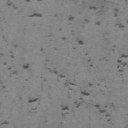oxide scale of temperature system: (52, 5, 125, 122), (0, 48, 44, 88), (6, 0, 43, 18), (116, 53, 128, 73), (0, 120, 10, 126), (28, 98, 39, 103)
